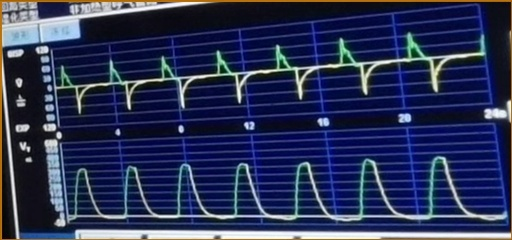Accumulation Flow: (58, 32, 483, 115)
Volume: (69, 153, 489, 227)
